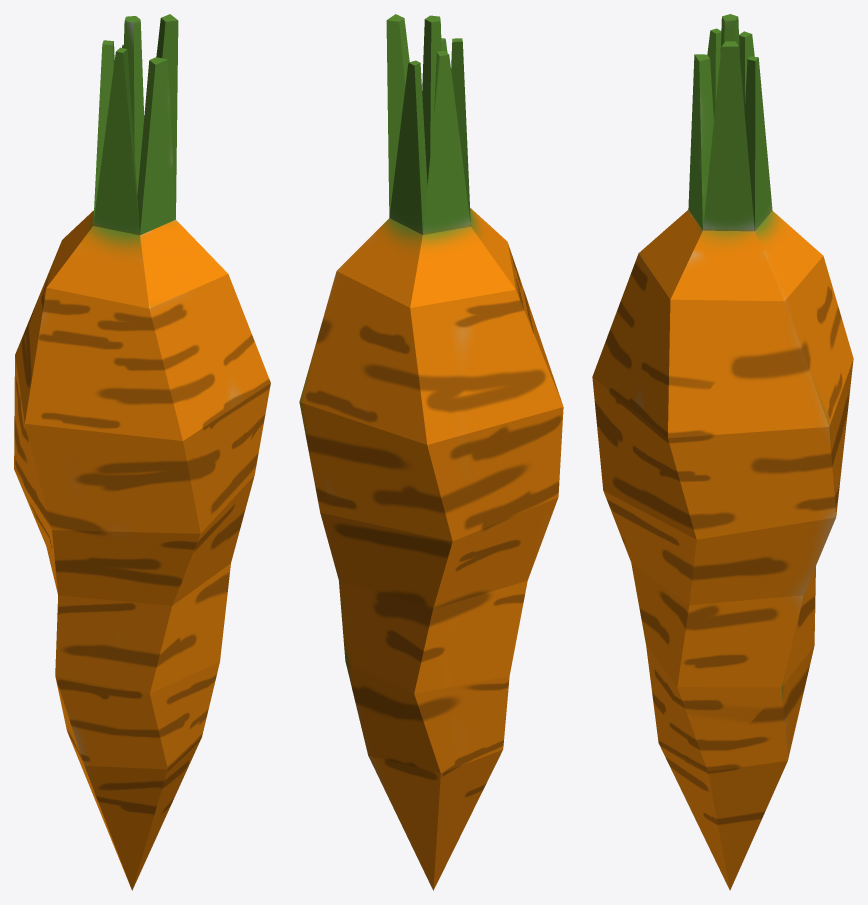
The model's file is Carrot.fbx.
3 renders of one model, left to right at view 1: azimuth 30°, elevation 25°; view 2: azimuth 150°, elevation 25°; view 3: azimuth 270°, elevation 25°, orthographic.
Parts seen in each view (by area): view 1: Cone; view 2: Cone; view 3: Cone.
Part boxes in pixels (box(x1,y1,x2,y2)): Cone: box(14, 14, 270, 890); Cone: box(299, 14, 563, 890); Cone: box(592, 14, 853, 890).
Size of the model in its own units: 17.57 by 64.64 by 17.52.
1 material, 1 textured.
